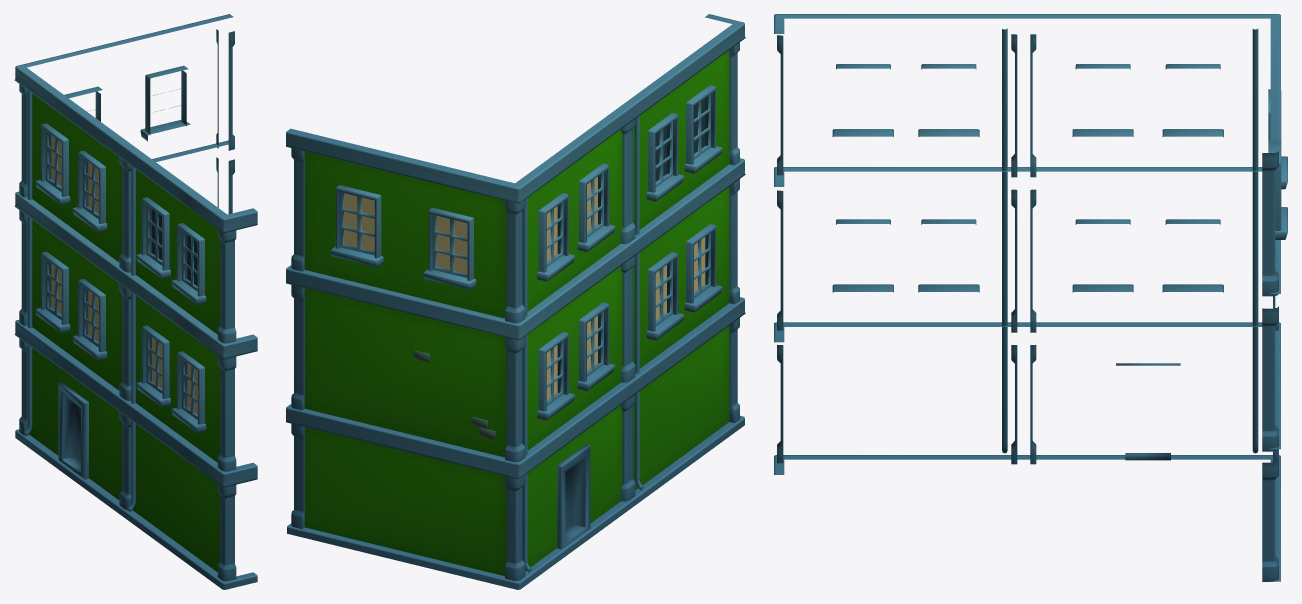
Rendered from Apartments02Night.glb.
3 renders of one model, left to right at view 1: azimuth 30°, elevation 25°; view 2: azimuth 150°, elevation 25°; view 3: azimuth 270°, elevation 25°, orthographic. The views are drawn at different scales.
Visible parts, largest first — view 1: Apartments02Night; view 2: Apartments02Night; view 3: Apartments02Night.
Boxes of the visible parts, bbox=[...] form: Apartments02Night: bbox=[14, 14, 257, 589]; Apartments02Night: bbox=[286, 14, 745, 589]; Apartments02Night: bbox=[774, 14, 1287, 581].
Size of the model in its own units: 10.6 by 17.16 by 17.79.
Materials: 2 (1 with a texture image).
